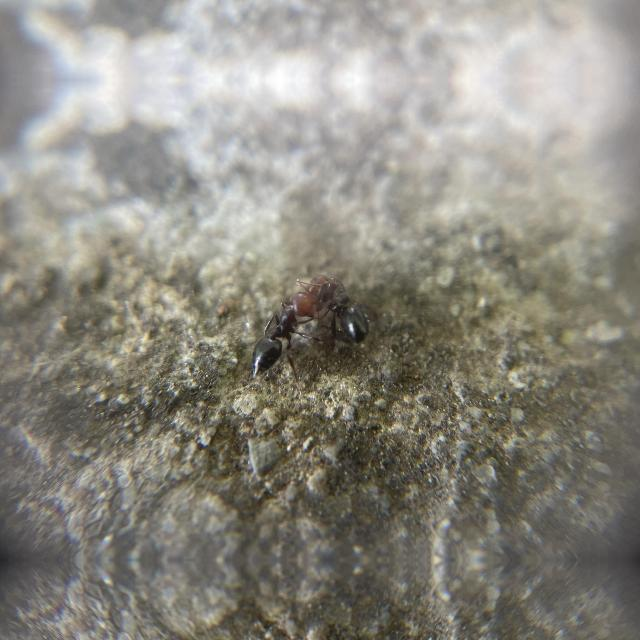Crematogaster: (233, 280, 323, 394), (311, 258, 385, 342)
